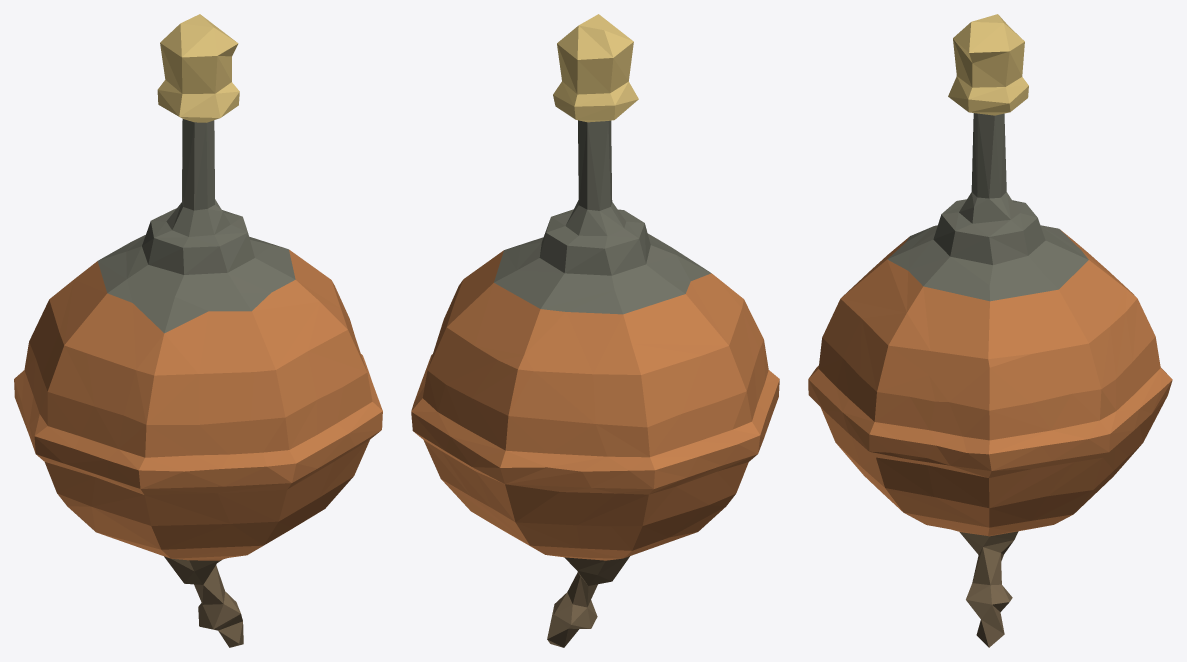
The model's file is net_buoy.glb.
3 renders of one model, left to right at view 1: azimuth 30°, elevation 25°; view 2: azimuth 150°, elevation 25°; view 3: azimuth 270°, elevation 25°, orthographic. The views are drawn at different scales.
Visible parts, largest first — view 1: net_buoy; view 2: net_buoy; view 3: net_buoy.
Boxes of the visible parts, bbox=[...] form: net_buoy: bbox=[14, 14, 382, 647]; net_buoy: bbox=[411, 14, 779, 647]; net_buoy: bbox=[808, 14, 1172, 647].
Bounding box in the file's own units: 0.38 × 0.7 × 0.38.
